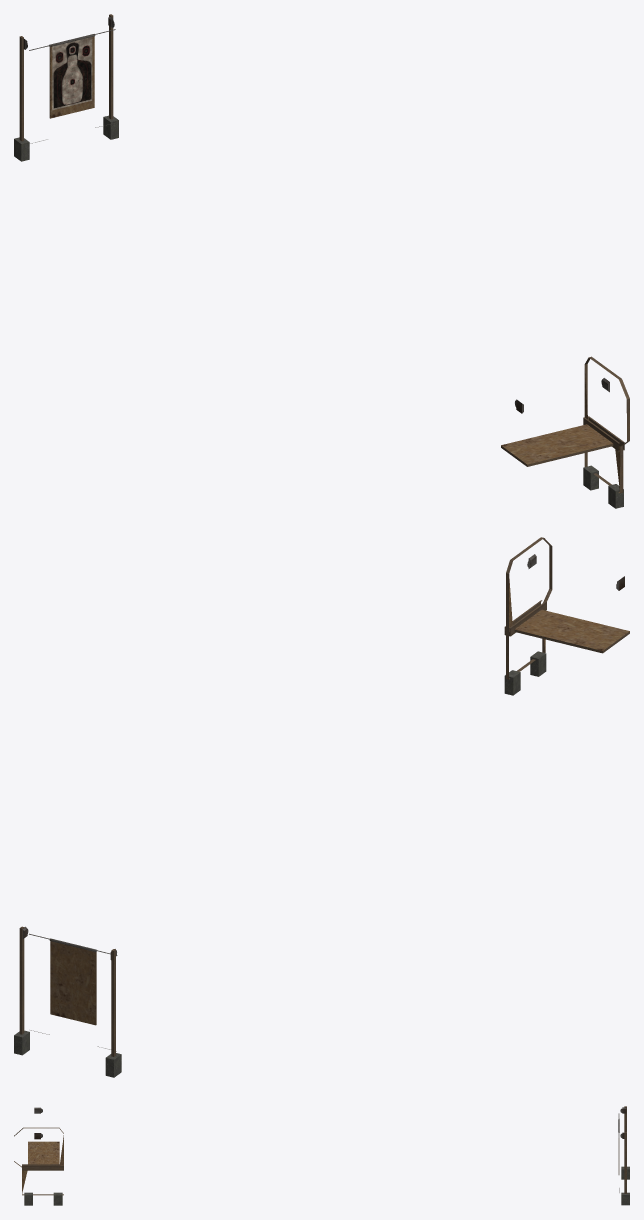
The model's file is gun_targets.fbx.
3 renders of one model, top to bottom at view 1: azimuth 30°, elevation 25°; view 2: azimuth 150°, elevation 25°; view 3: azimuth 270°, elevation 25°, orthographic. The views are drawn at different scales.
Parts seen in each view (by area): view 1: BoothTable_8, Target(Full)_5, Moving Target Rails_7, Moving Target_6; view 2: BoothTable_8, Moving Target_6, Moving Target Rails_7; view 3: BoothTable_8, Moving Target Rails_7.
Boxes of the visible parts, bbox=[...] form: BoothTable_8: bbox=[501, 356, 629, 508]; Target(Full)_5: bbox=[52, 37, 92, 110]; Moving Target Rails_7: bbox=[14, 14, 609, 413]; Moving Target_6: bbox=[29, 29, 115, 143]; BoothTable_8: bbox=[504, 537, 629, 695]; Moving Target_6: bbox=[29, 933, 117, 1051]; Moving Target Rails_7: bbox=[14, 554, 624, 1077]; BoothTable_8: bbox=[14, 1127, 63, 1205]; Moving Target Rails_7: bbox=[34, 1106, 629, 1205].
Size of the model in its own units: 3552 by 4459 by 32569.
Materials: 1 (1 with a texture image).
